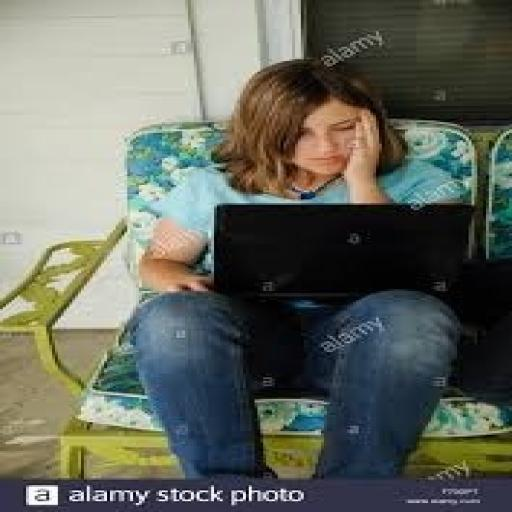using_laptop: (206, 199, 478, 302)
